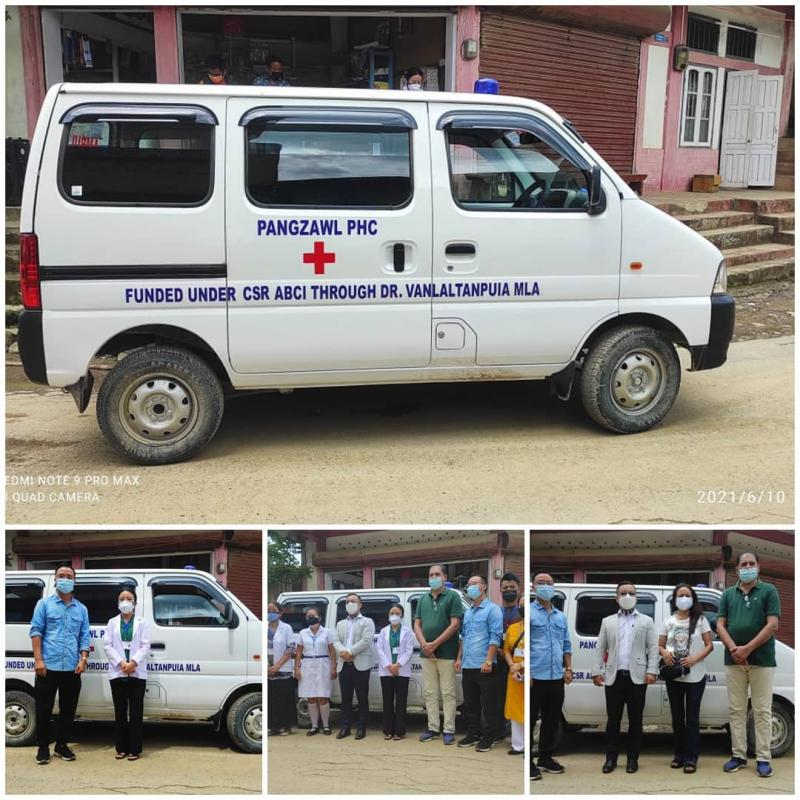ambulance: (15, 67, 748, 454)
